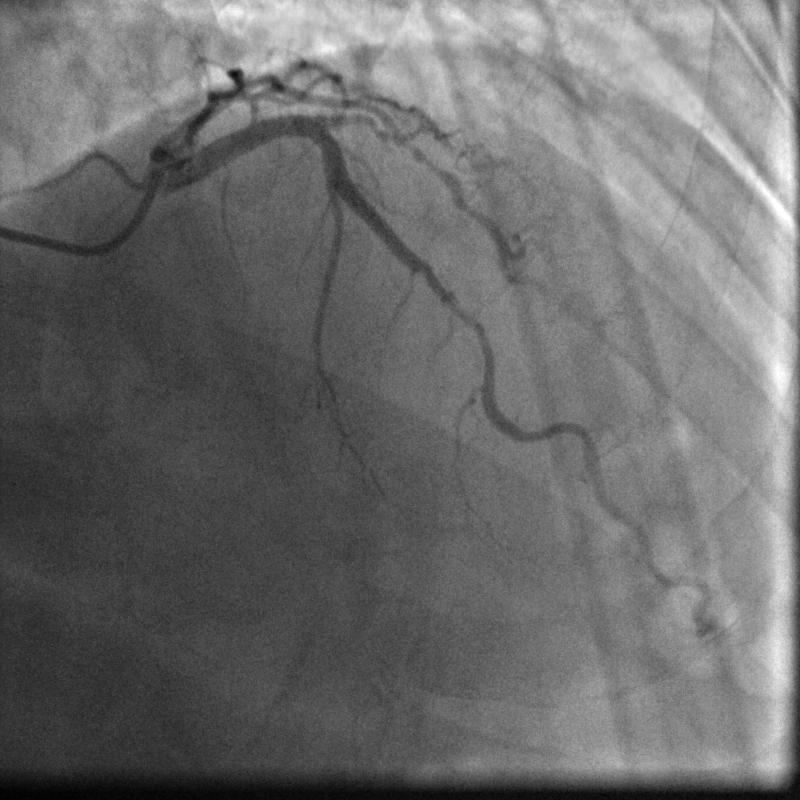Stenosis: (424, 258, 493, 356)
